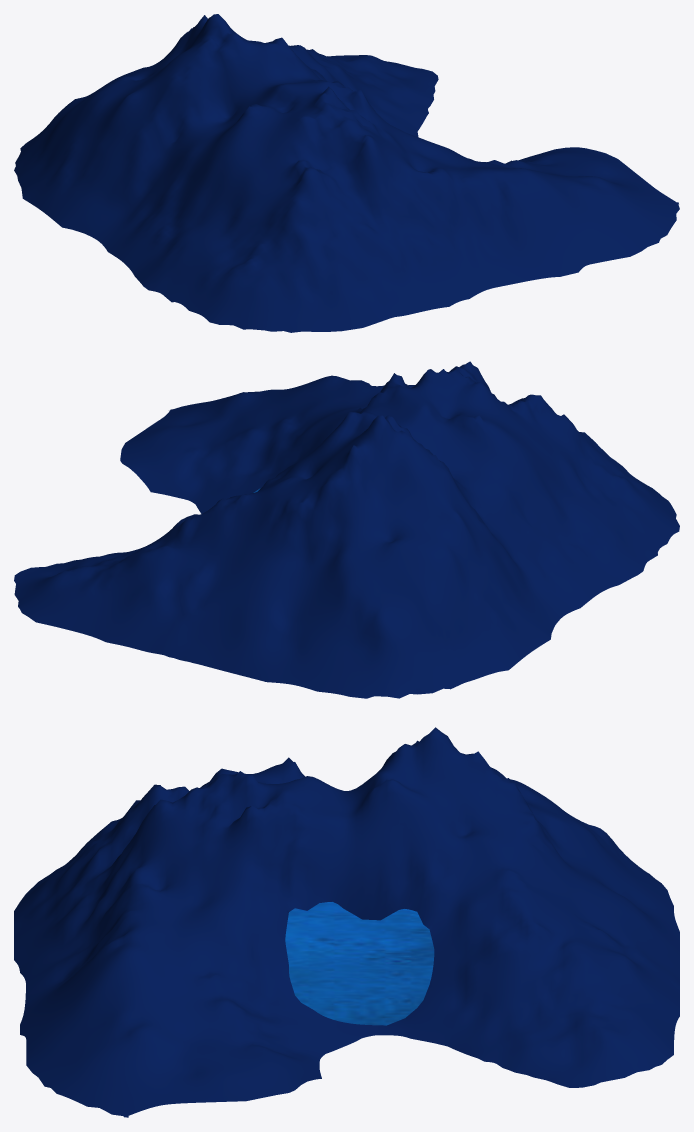
The model's file is Slime Water Factory.fbx.
The picture shows the model from 3 angles, top to bottom: view 1: azimuth 30°, elevation 25°; view 2: azimuth 150°, elevation 25°; view 3: azimuth 270°, elevation 25°; orthographic projection. The views are drawn at different scales.
Visible parts, largest first — view 1: Plane; view 2: Plane; view 3: Plane.
Boxes of the visible parts, left/top/right/bottom form: Plane: left=14, top=14, right=679, bottom=332; Plane: left=14, top=361, right=679, bottom=698; Plane: left=14, top=727, right=679, bottom=1117.
Size of the model in its own units: 200 by 68.24 by 203.
Materials: 1 (1 with a texture image).
